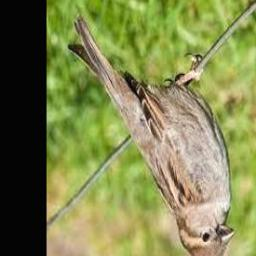Sparrow: (68, 18, 236, 256)
